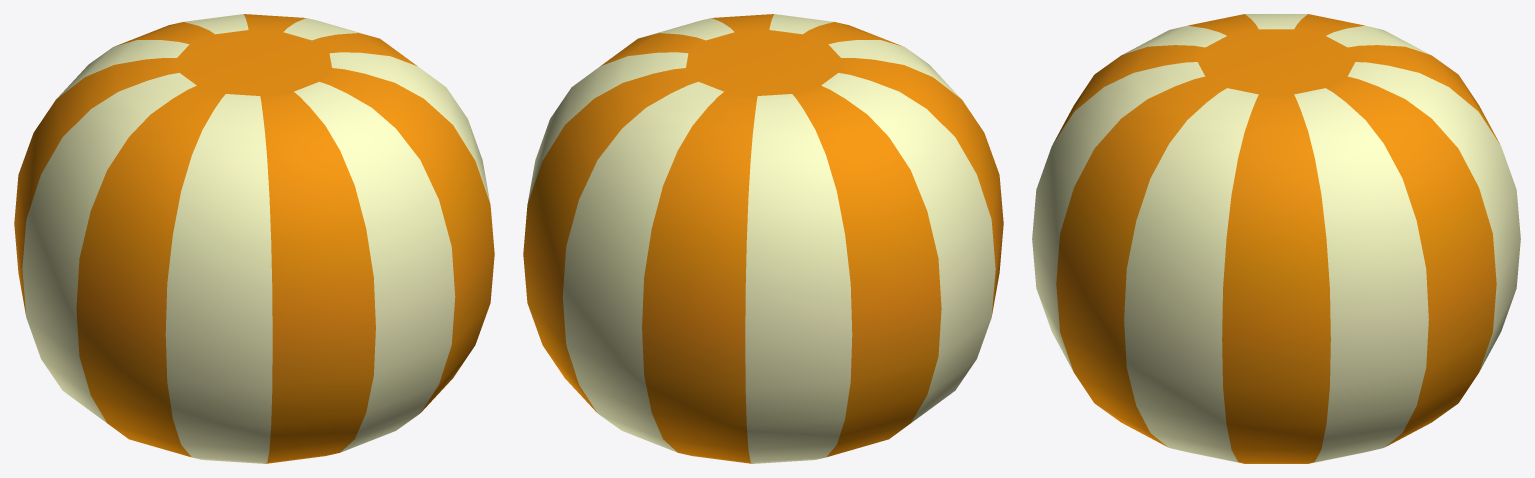
The model's file is candy_hard_14.fbx.
3 views of the same model, side by side, from view 1: azimuth 30°, elevation 25°; view 2: azimuth 150°, elevation 25°; view 3: azimuth 270°, elevation 25° (orthographic).
Visible parts, largest first — view 1: c_h_14; view 2: c_h_14; view 3: c_h_14.
Part boxes in pixels (x1,y1,x2,y2): c_h_14: (14, 14, 494, 463); c_h_14: (523, 14, 1003, 463); c_h_14: (1032, 14, 1520, 463).
Bounding box in the file's own units: 134 × 110 × 137.
